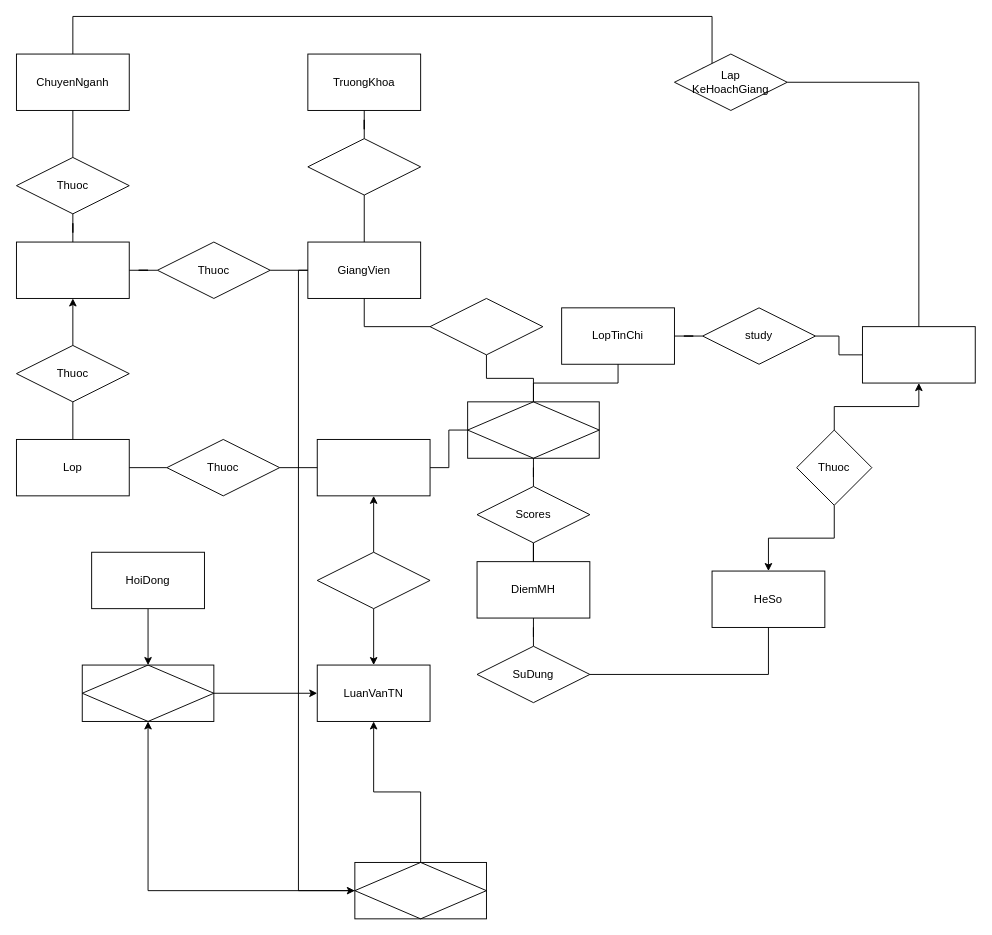
Image size: 992x935. Some labels were removed from this diagram. Here are the shapes that lost their labels. From the top down, the centre of each, then its label:
[364,166]: isa
[72,269]: Khoa
[486,326]: Teach
[918,354]: MonHoc
[533,429]: DangKy Hoc
[373,467]: SV
[373,580]: LamLV
[147,692]: Cham LV
[420,890]: HuongDanLV
